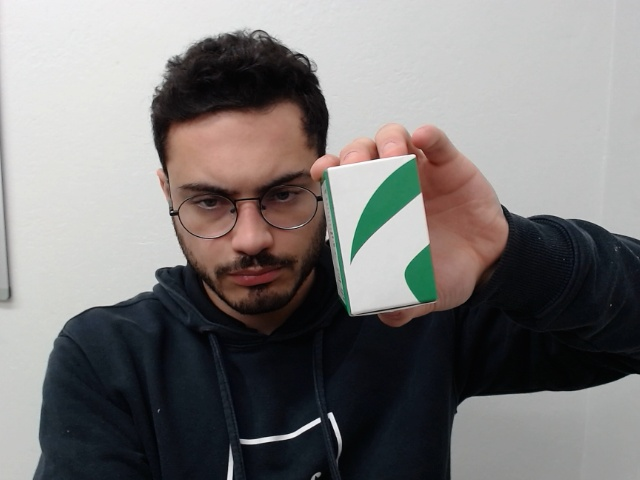divisor: (317, 149, 445, 321)
